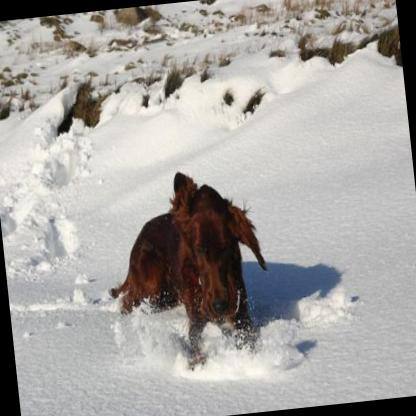Irish_setter: (94, 157, 277, 380)
